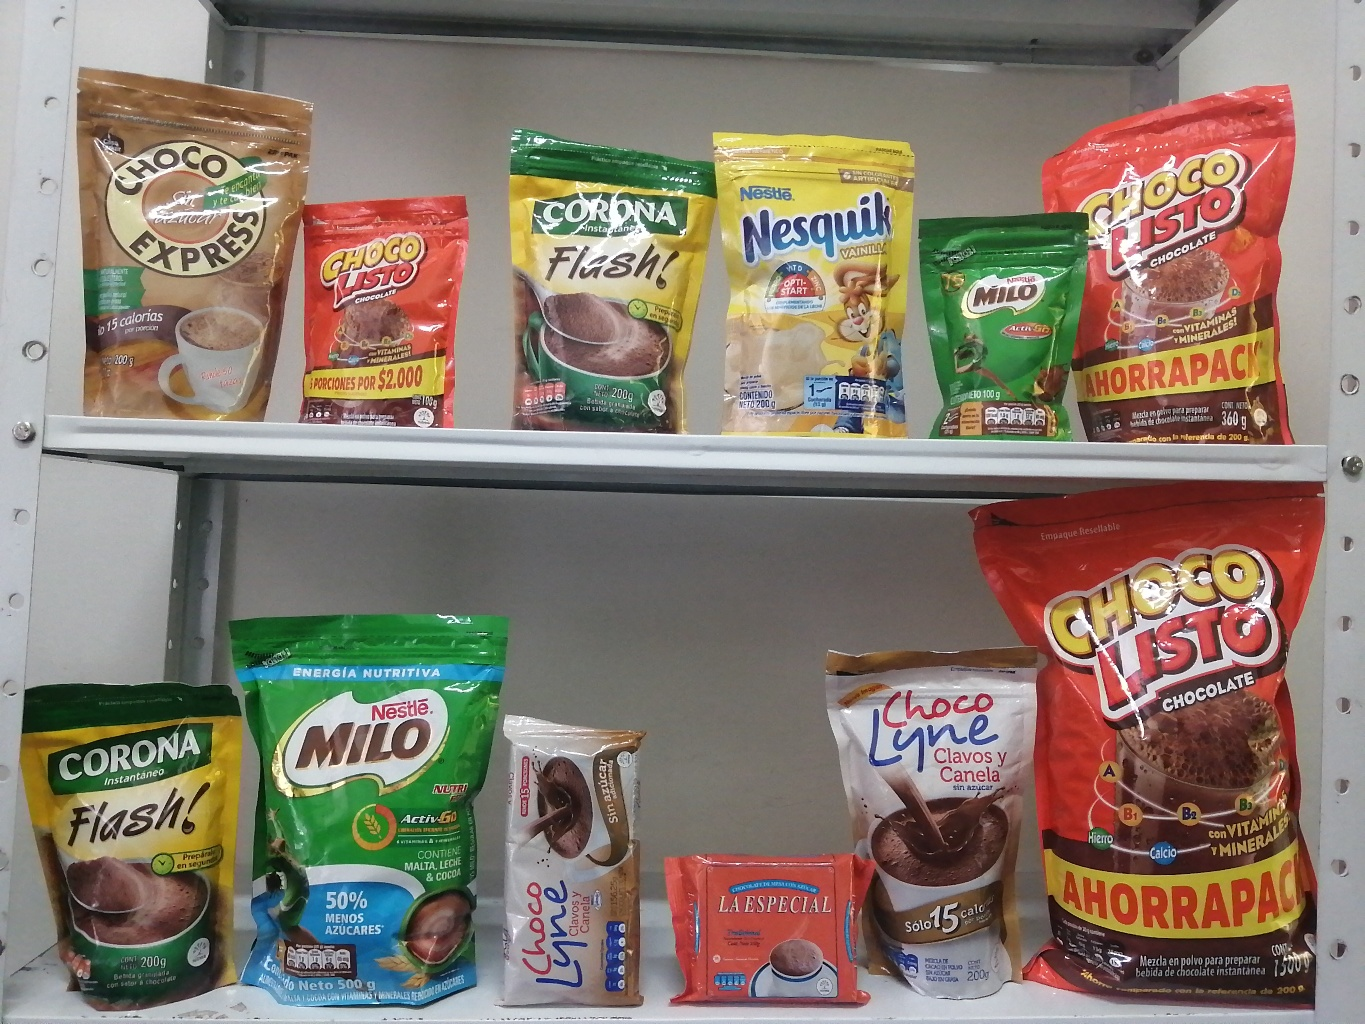COL0170103DYP1,500: (951, 473, 1341, 1013)
COL0170103DYP36000: (1027, 77, 1337, 457)
COL0170203DYP10000: (909, 203, 1095, 453)
COL0170205DYP50000: (215, 579, 504, 1007)
COL0170306DYP20000: (697, 101, 923, 441)
